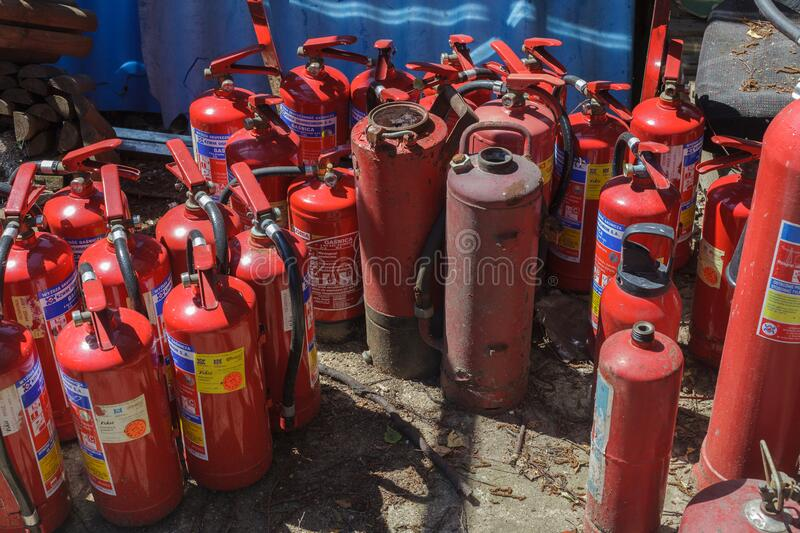fire_extinguisher: (690, 79, 800, 496), (0, 161, 82, 444), (588, 131, 683, 361), (583, 320, 685, 532), (544, 74, 632, 295), (687, 134, 763, 371), (0, 316, 73, 532), (286, 148, 364, 342), (628, 80, 706, 270), (187, 68, 255, 200)
